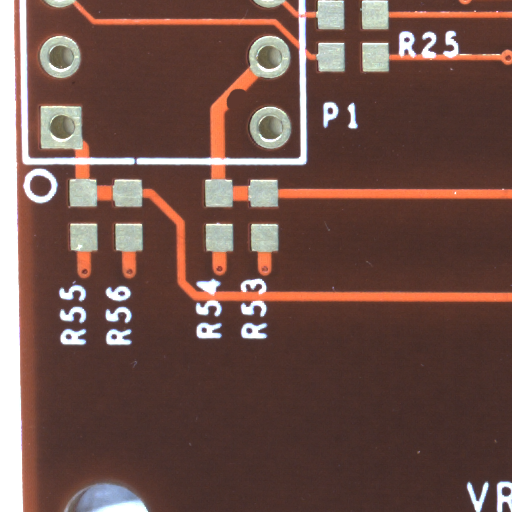Mouse_bite: (234, 99, 263, 126)
